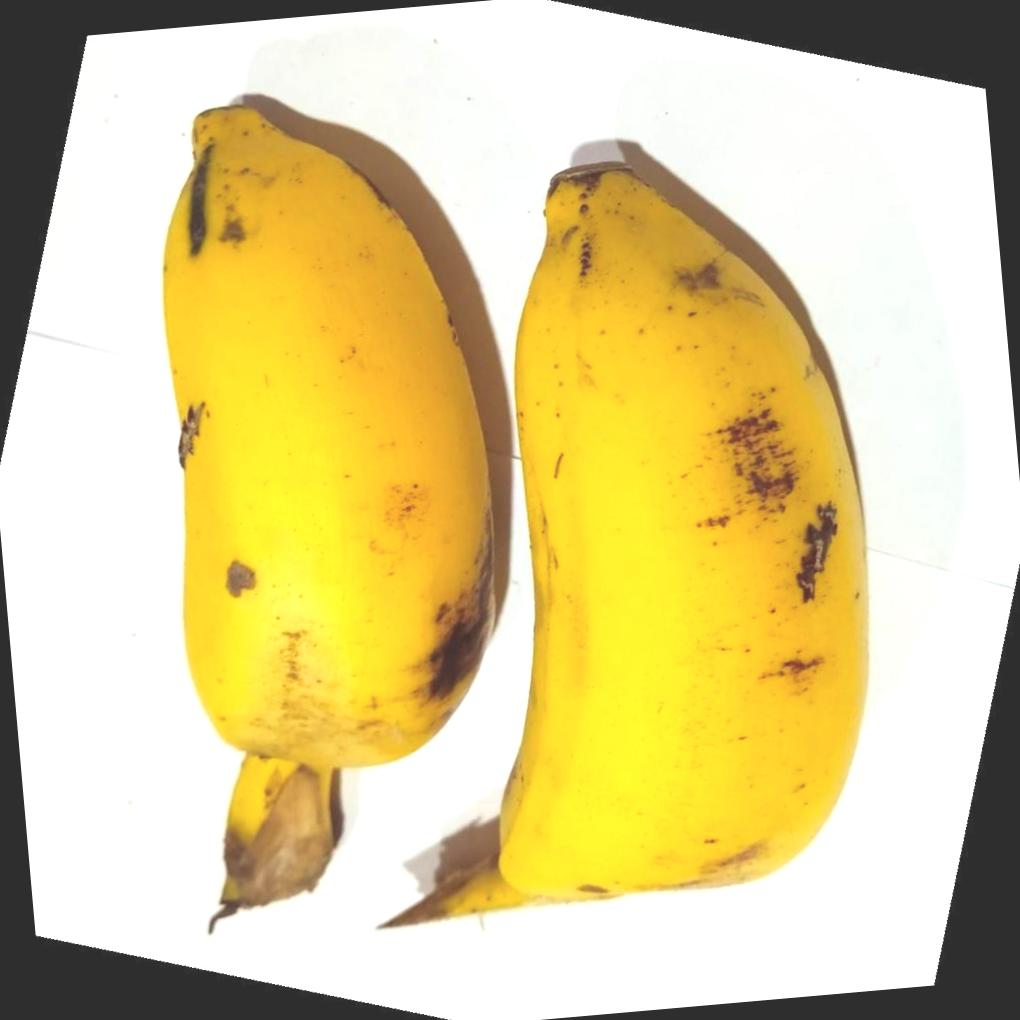Banana Ripe: (396, 47, 937, 980), (83, 23, 568, 1020)
